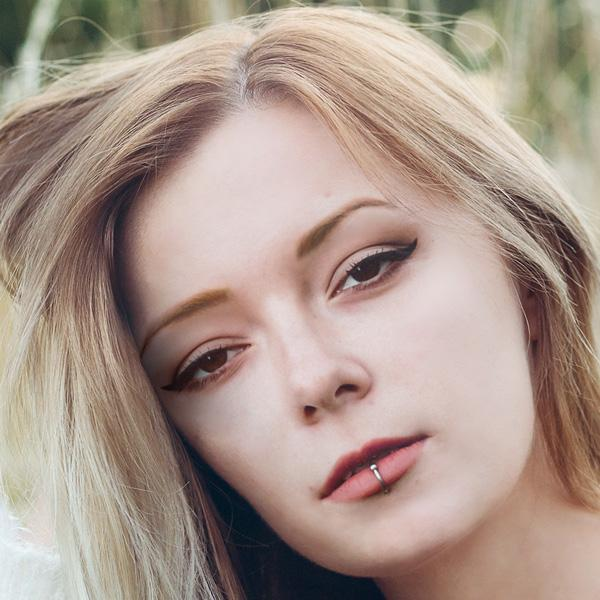Eyes: (324, 227, 425, 307), (161, 325, 261, 404)
